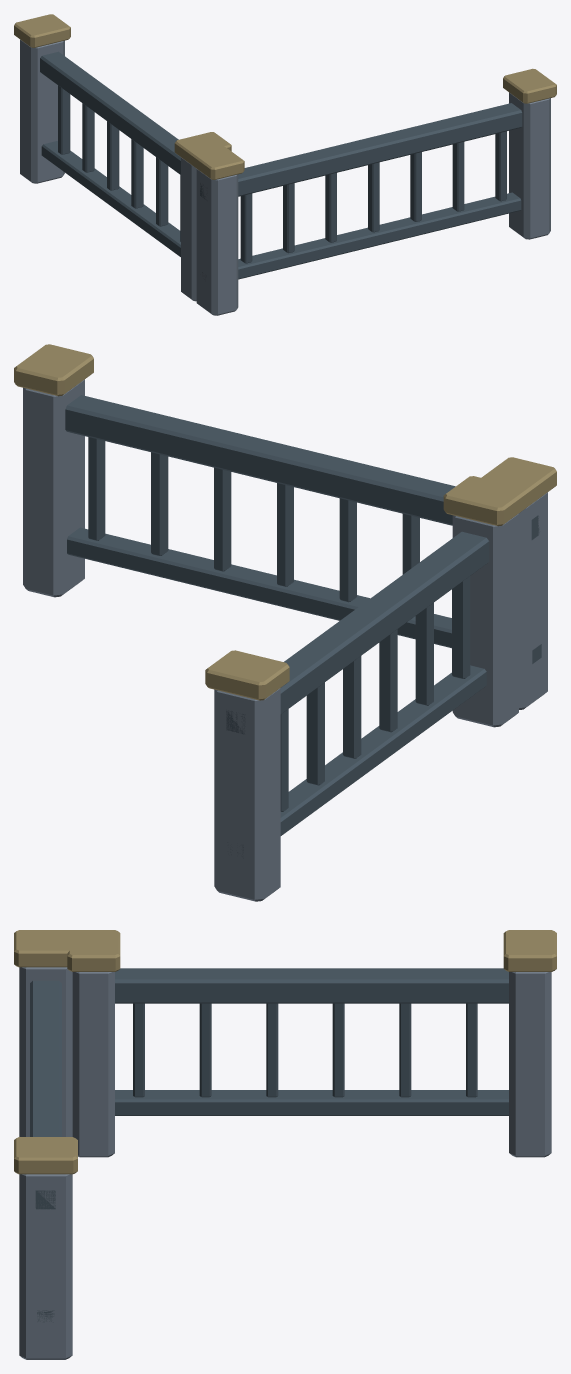
File: railing-corner.glb
3 views of the same model, one above another, from view 1: azimuth 30°, elevation 25°; view 2: azimuth 150°, elevation 25°; view 3: azimuth 270°, elevation 25° (orthographic). The views are drawn at different scales.
Parts seen in each view (by area): view 1: railing-corner__body; view 2: railing-corner__body; view 3: railing-corner__body.
Part boxes in pixels (box(x1,y1,x2,y2)): railing-corner__body: box(14, 14, 556, 315); railing-corner__body: box(14, 344, 556, 901); railing-corner__body: box(14, 930, 556, 1359).
Bounding box in the file's own units: 2.04 × 0.85 × 2.04.
